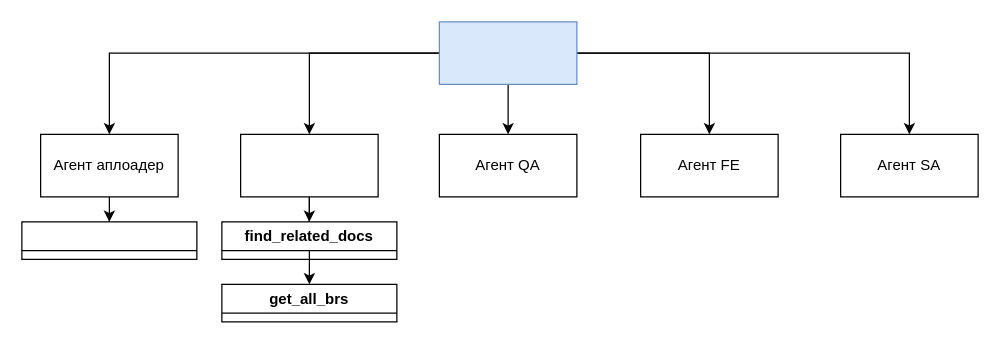
Some shapes in this 1000 by 344 pixel diagram are drawn without their labels. Here are the shapes that lost their labels. From the top down, the centre of each, then its label:
At (507,52): "Супервизор".
At (308,165): "Агент BA".
At (109,240): "process_document".
